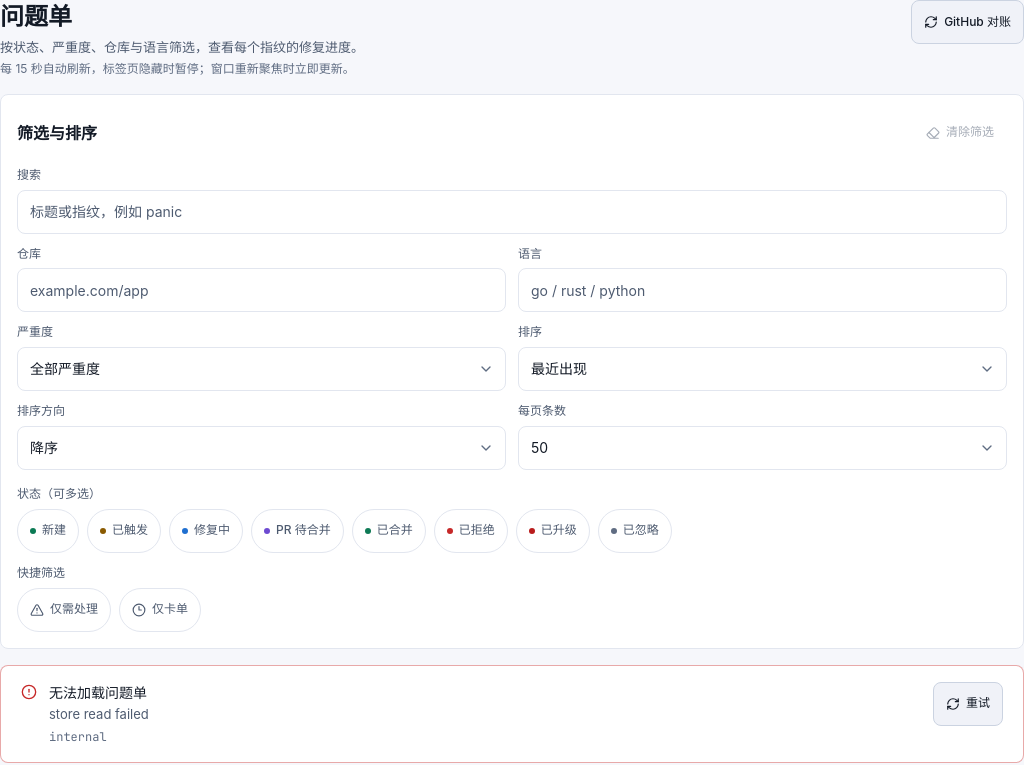
Test case: IssuesPage › shows a retryable error when the list fails
Expected: the message shows "无法加载问题单", [49,684,147,701]
Expected: the message shows "store read failed", [49,706,149,722]
Click the button "重试": (968, 704) [933,682,1003,726]
(page scrolled)
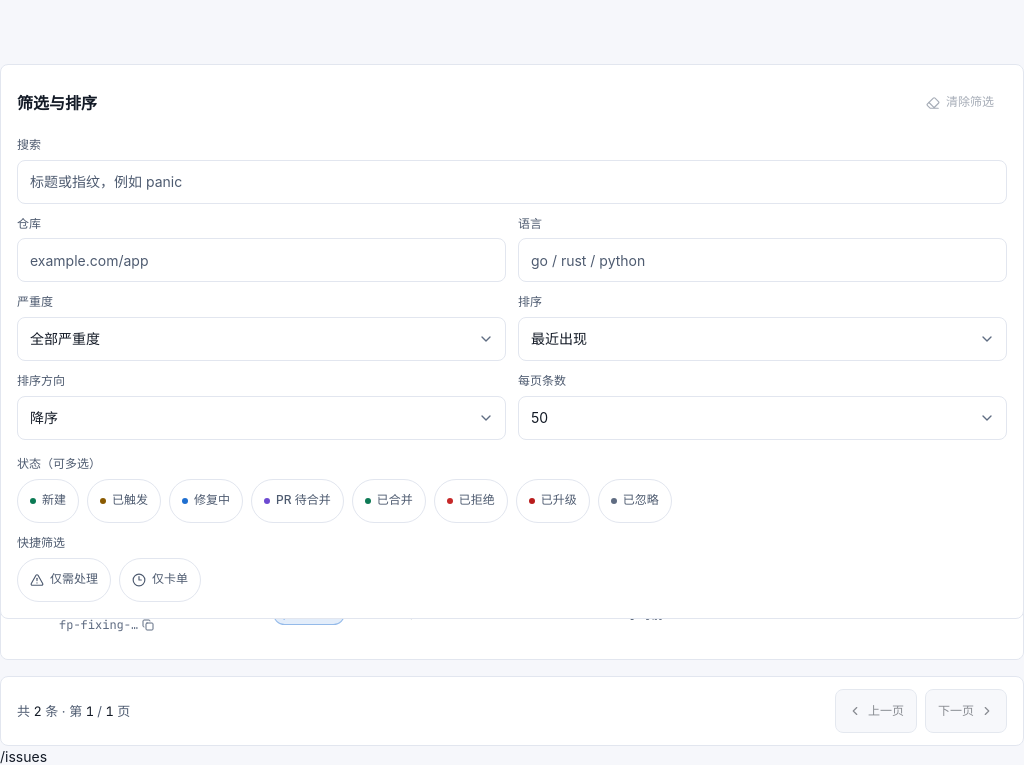
Expected: the element named "问题单列表" is shown, [0,381,1023,660]
